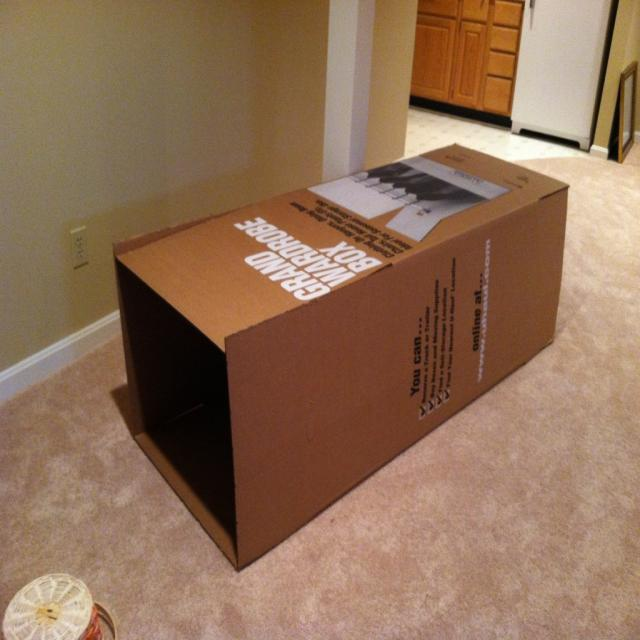Box: (112, 143, 570, 572)
